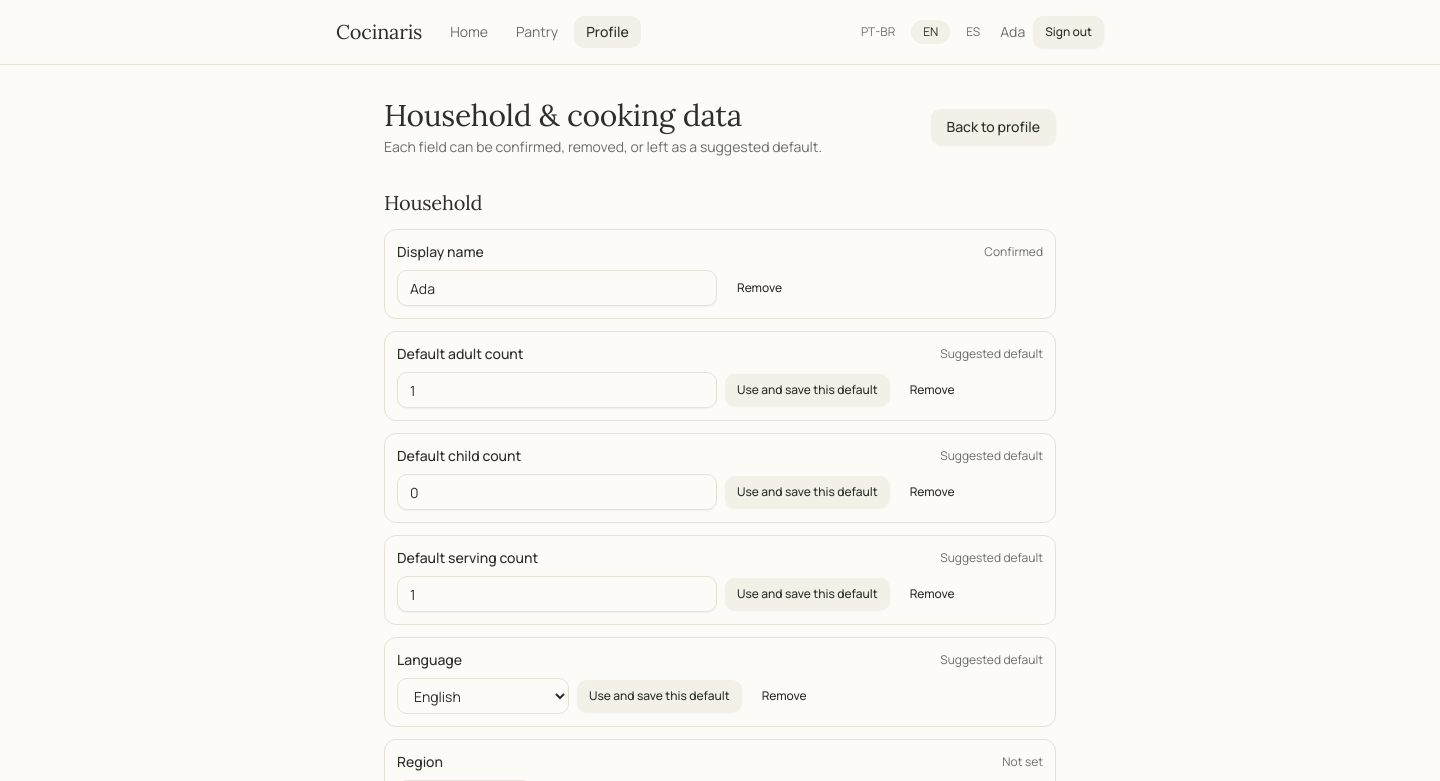
ProductionApp dirty logout protection › discards dirty draft and logs out exactly once
The image size is (1440, 781).
Replace the text in the field with test id "profile-data-input-displayName" with "Beatrice" at (557, 288), box [397, 270, 717, 306]
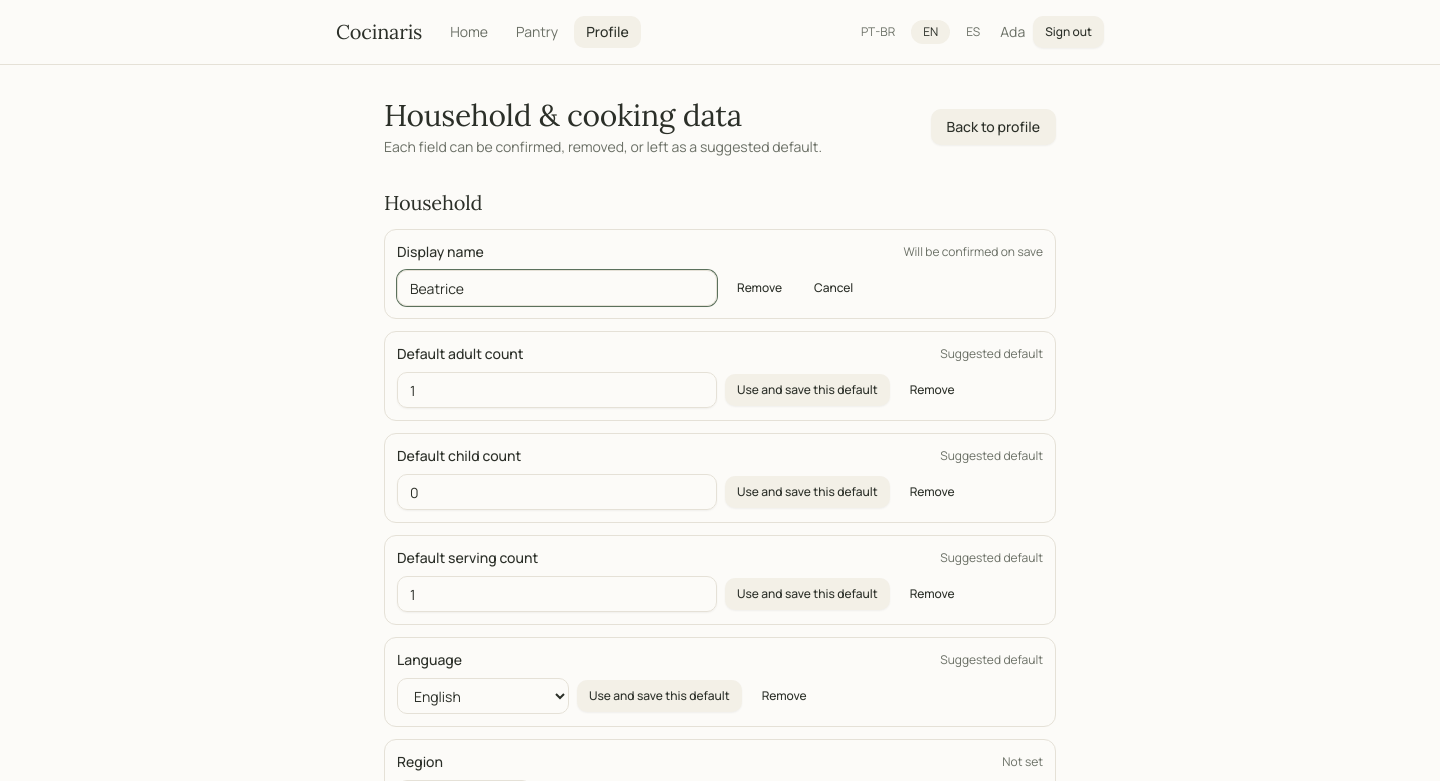
Click the button with test id "production-logout" at (1069, 32), box [1033, 16, 1104, 48]
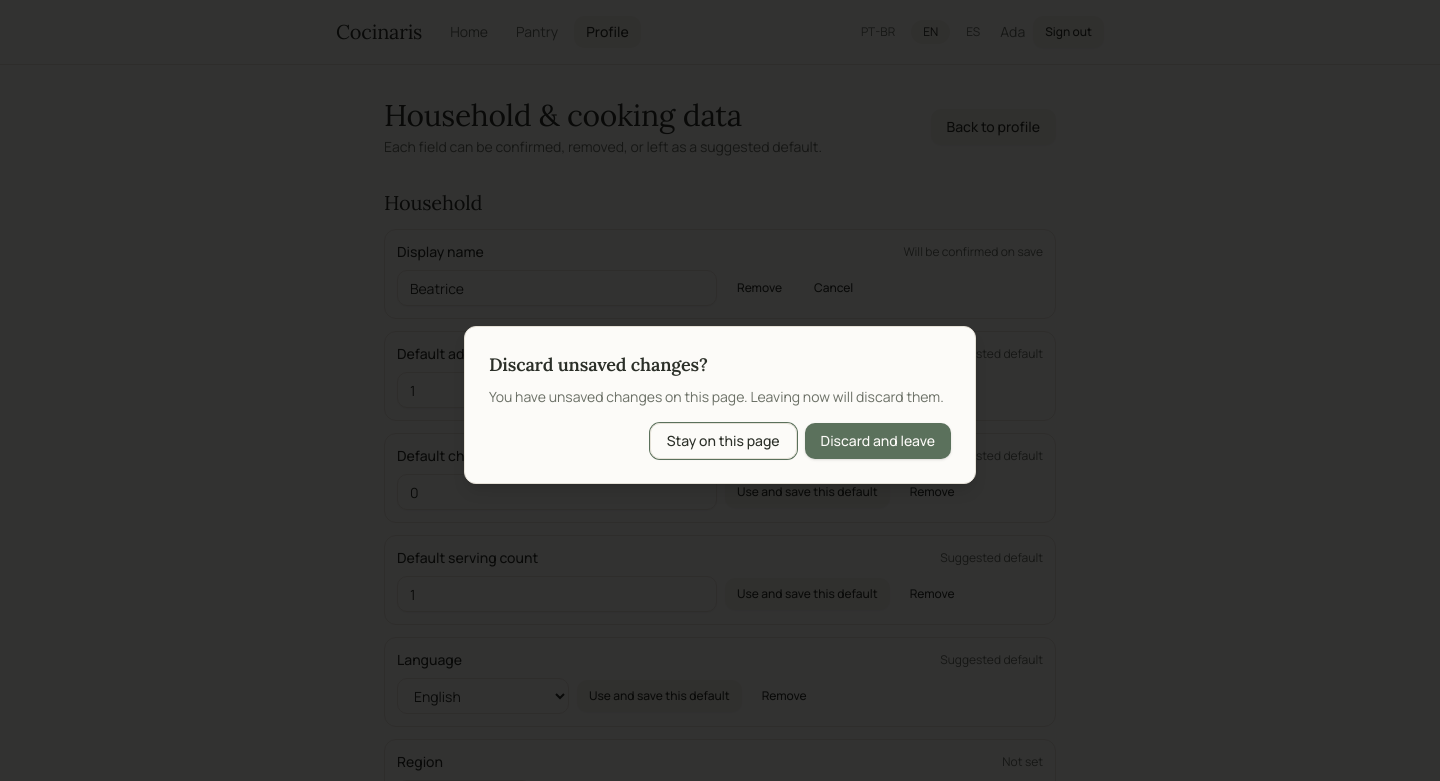
Result: the dialog is shown at [464, 326, 976, 484]
Click the button with test id "profile-unsaved-discard" at (878, 441), box [805, 423, 951, 459]
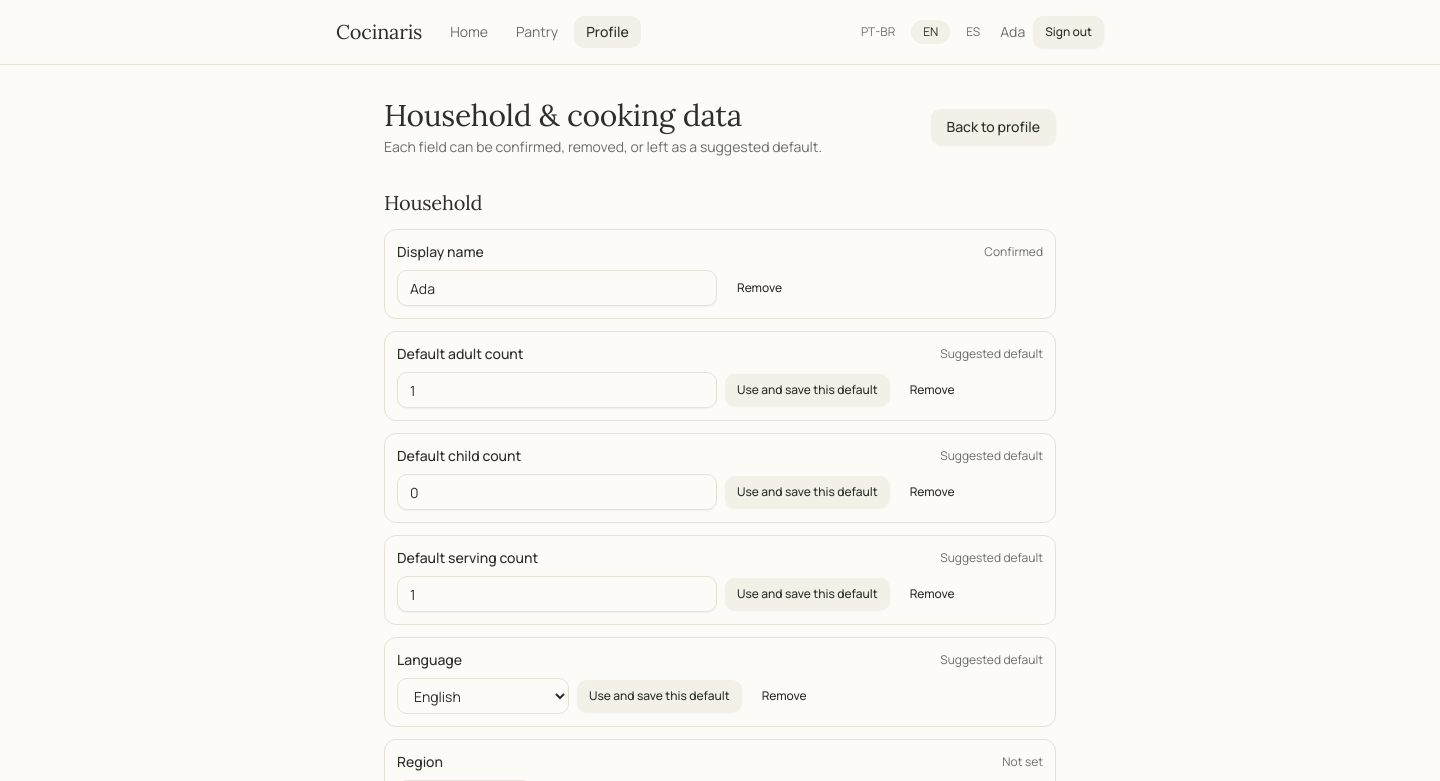
Result: the dialog is gone
